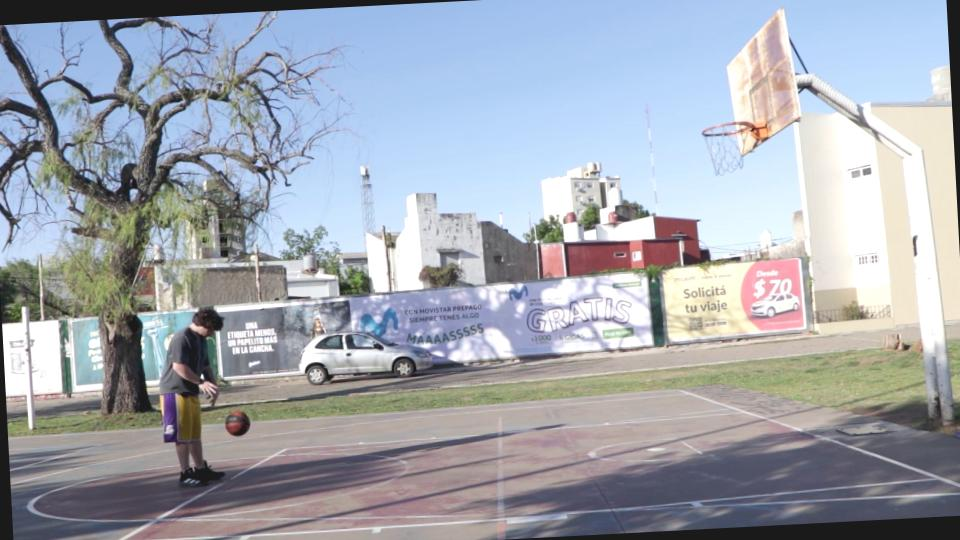hoop: (700, 119, 756, 138)
